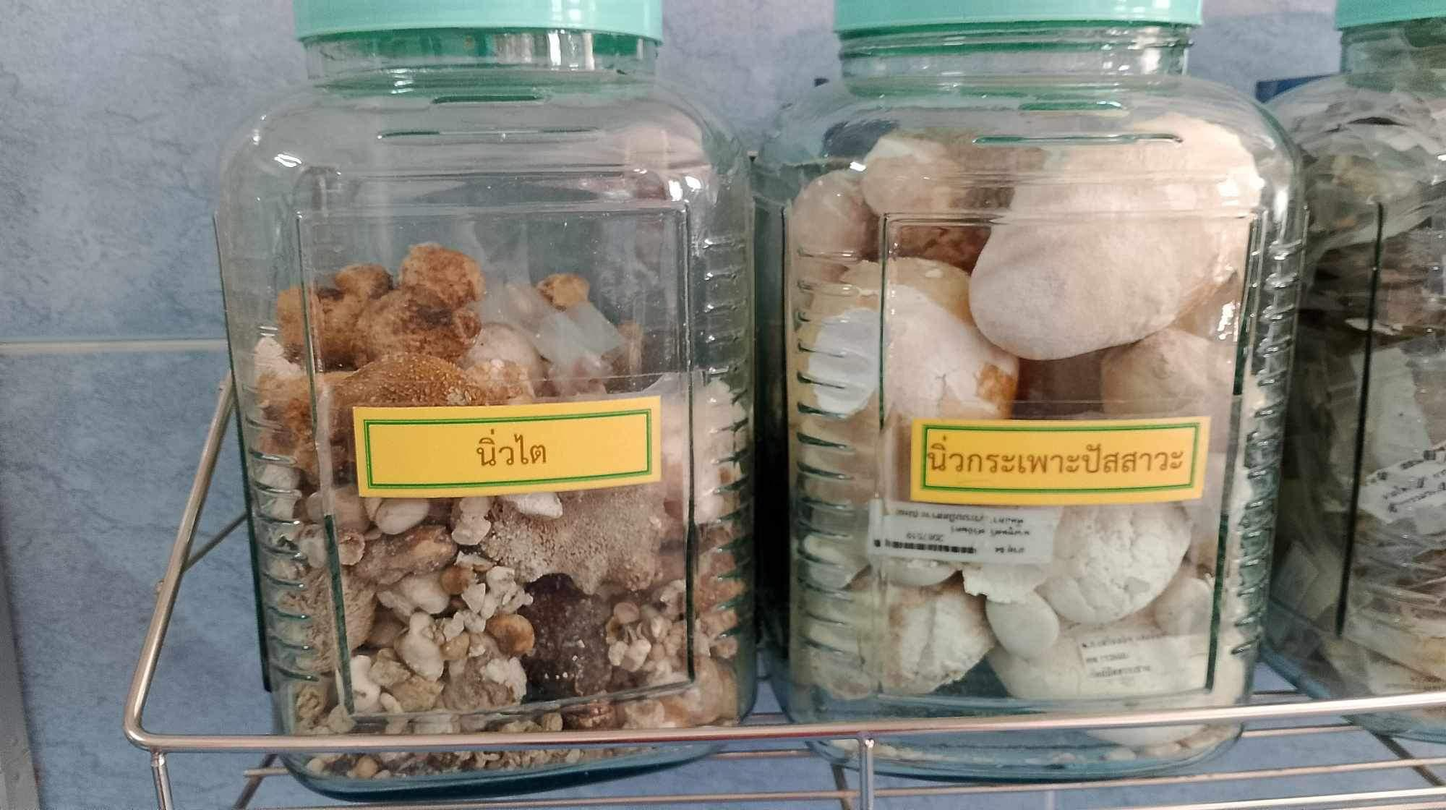General: (123, 4, 1434, 804), (208, 4, 761, 798)
Pathological: (774, 72, 1307, 774)
Sharps: (286, 206, 361, 718)
